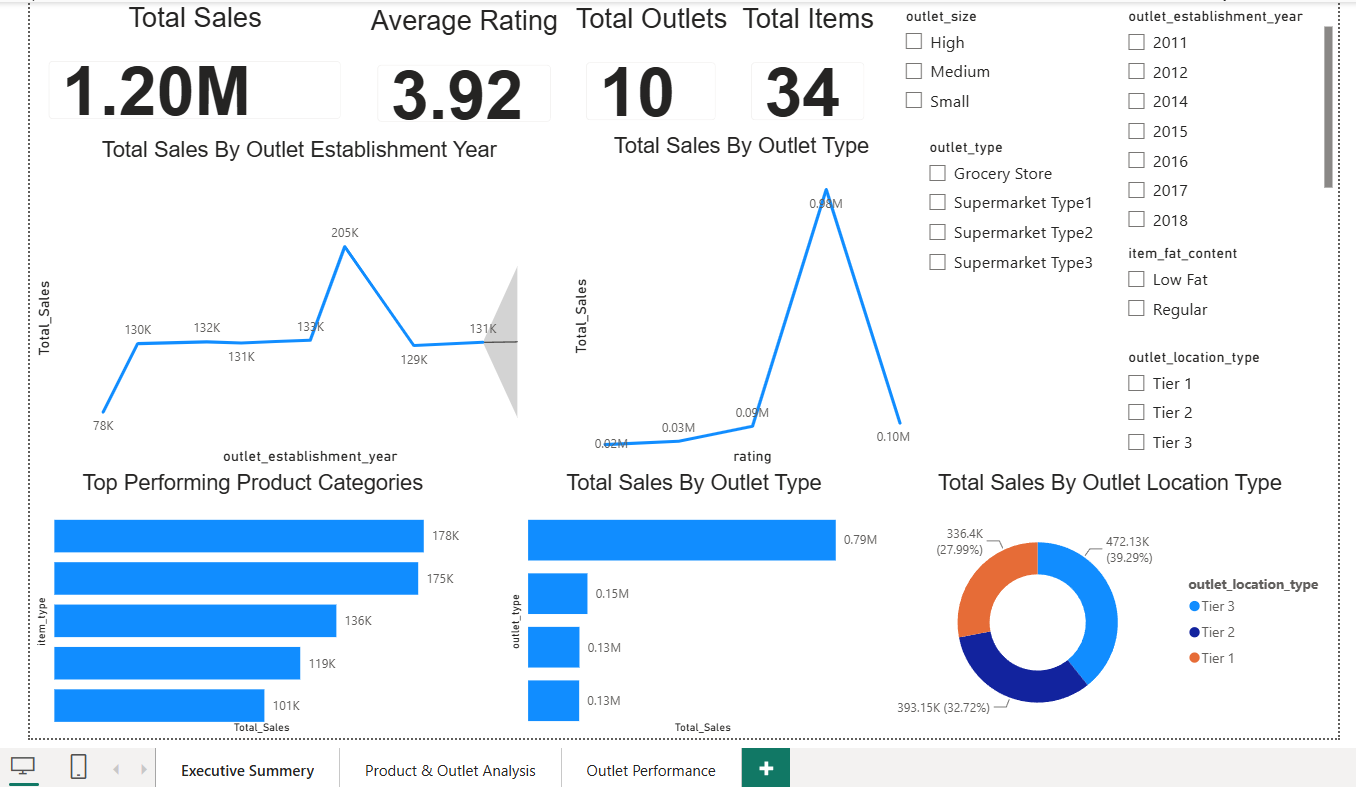

This screenshot's page, from the dashboard's own definition file:
{"tool":"powerbi","page":{"name":"Executive Summery","canvas":[1280,720],"ordinal":0},"visuals":[{"type":"cardVisual","title":"Total Sales","fields":{"Data":["BlinkIT_Grocery_Data_Raw.Total_Sales"]},"box":[1.6,0,320.7,132.5],"z":0},{"type":"cardVisual","title":"Average Rating","fields":{"Data":["BlinkIT_Grocery_Data_Raw.Avg_Rating"]},"box":[322.3,3.3,204.5,130.9],"z":1},{"type":"cardVisual","title":"Total Outlets","fields":{"Data":["BlinkIT_Grocery_Data_Raw.Total_Outlets"]},"box":[526.8,1.6,162,132.5],"z":2},{"type":"cardVisual","title":"Total Items","fields":{"Data":["BlinkIT_Grocery_Data_Raw.Total_Items"]},"box":[688.8,1.6,145.6,132.5],"z":3},{"type":"slicer","fields":{"Values":["BlinkIT_Grocery_Data_Raw.outlet_establishment_year"]},"box":[1061.9,0,217.6,232.3],"z":4},{"type":"slicer","fields":{"Values":["BlinkIT_Grocery_Data_Raw.outlet_location_type"]},"box":[1061.9,333.8,217.6,124.3],"z":5},{"type":"slicer","fields":{"Values":["BlinkIT_Grocery_Data_Raw.outlet_size"]},"box":[844.2,0,217.6,127.6],"z":6},{"type":"slicer","fields":{"Values":["BlinkIT_Grocery_Data_Raw.item_fat_content"]},"box":[1061.9,232.3,217.6,101.4],"z":7},{"type":"barChart","title":"Top Performing Product Categories ","fields":{"Category":["BlinkIT_Grocery_Data_Raw.item_type"],"Y":["BlinkIT_Grocery_Data_Raw.Total_Sales"]},"box":[1.6,458.1,433.6,261.8],"z":8},{"type":"barChart","title":"Total Sales By Outlet Type","fields":{"Category":["BlinkIT_Grocery_Data_Raw.outlet_type"],"Y":["BlinkIT_Grocery_Data_Raw.Total_Sales"]},"box":[464.7,458.1,369.8,261.8],"z":9},{"type":"donutChart","title":"Total Sales By Outlet Location Type","fields":{"Category":["BlinkIT_Grocery_Data_Raw.outlet_location_type"],"Y":["BlinkIT_Grocery_Data_Raw.Total_Sales"]},"box":[834.4,458.1,445,261.8],"z":10},{"type":"lineChart","title":"Total Sales By Outlet Establishment Year","fields":{"Category":["BlinkIT_Grocery_Data_Raw.outlet_establishment_year"],"Y":["BlinkIT_Grocery_Data_Raw.Total_Sales"]},"box":[1.7,132.4,524.5,325],"z":11},{"type":"slicer","fields":{"Values":["BlinkIT_Grocery_Data_Raw.outlet_type"]},"box":[866.7,129,194.3,154.8],"z":12},{"type":"lineChart","title":"Total Sales By Outlet Type","fields":{"Category":["BlinkIT_Grocery_Data_Raw.rating"],"Y":["BlinkIT_Grocery_Data_Raw.Total_Sales"]},"box":[526.2,129,340.5,328.5],"z":13}]}

Visuals, with their boxes on the page's 1280x720 design canvas (x1, y1, x2, y2). These are canvas units, not pixel positions in the 1356x787 screenshot, which may show the page scaled, cropped or inside an application window:
"Total Sales" cardVisual: x1=2, y1=0, x2=322, y2=132
"Average Rating" cardVisual: x1=322, y1=3, x2=527, y2=134
"Total Outlets" cardVisual: x1=527, y1=2, x2=689, y2=134
"Total Items" cardVisual: x1=689, y1=2, x2=834, y2=134
slicer - BlinkIT_Grocery_Data_Raw.outlet_establishment_year: x1=1062, y1=0, x2=1280, y2=232
slicer - BlinkIT_Grocery_Data_Raw.outlet_location_type: x1=1062, y1=334, x2=1280, y2=458
slicer - BlinkIT_Grocery_Data_Raw.outlet_size: x1=844, y1=0, x2=1062, y2=128
slicer - BlinkIT_Grocery_Data_Raw.item_fat_content: x1=1062, y1=232, x2=1280, y2=334
"Top Performing Product Categories " barChart: x1=2, y1=458, x2=435, y2=720
"Total Sales By Outlet Type" barChart: x1=465, y1=458, x2=834, y2=720
"Total Sales By Outlet Location Type" donutChart: x1=834, y1=458, x2=1279, y2=720
"Total Sales By Outlet Establishment Year" lineChart: x1=2, y1=132, x2=526, y2=457
slicer - BlinkIT_Grocery_Data_Raw.outlet_type: x1=867, y1=129, x2=1061, y2=284
"Total Sales By Outlet Type" lineChart: x1=526, y1=129, x2=867, y2=458
